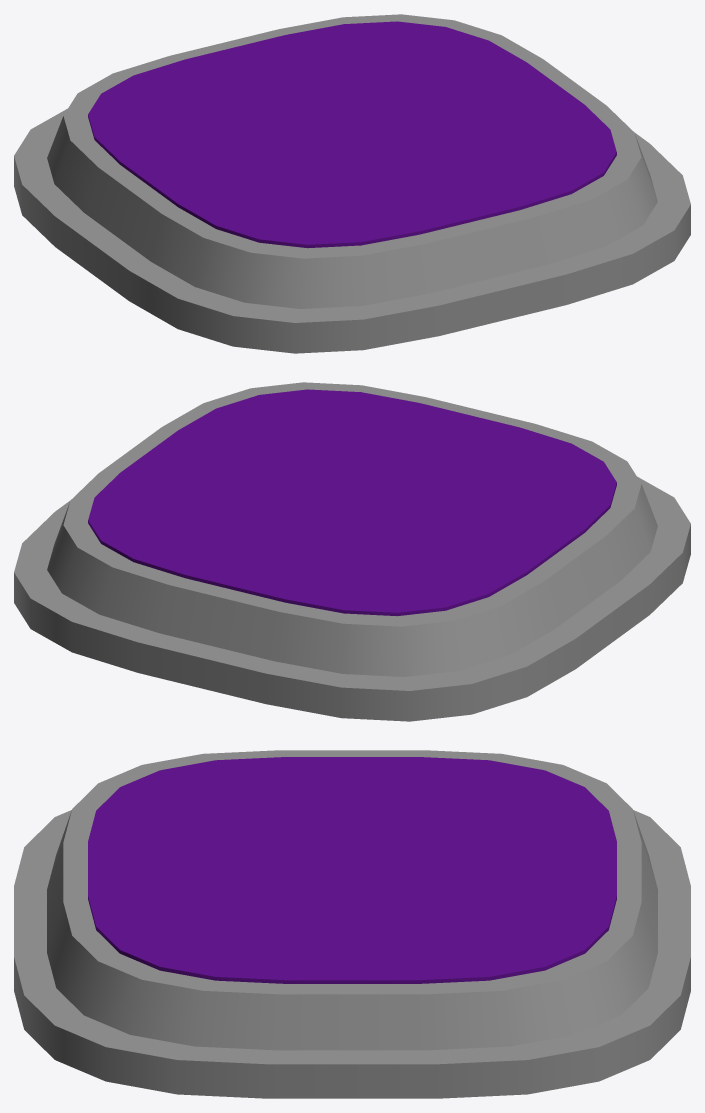
Rendered from SimonSaysIndicator.FBX.
3 renders of one model, top to bottom at view 1: azimuth 30°, elevation 25°; view 2: azimuth 150°, elevation 25°; view 3: azimuth 270°, elevation 25°, orthographic. The views are drawn at different scales.
Parts seen in each view (by area): view 1: Box001; view 2: Box001; view 3: Box001.
Part boxes in pixels (x1,y1,x2,y2): Box001: (14,14,690,353); Box001: (14,382,690,721); Box001: (14,750,690,1098).
Bounding box in the file's own units: 46 × 6.55 × 46.
